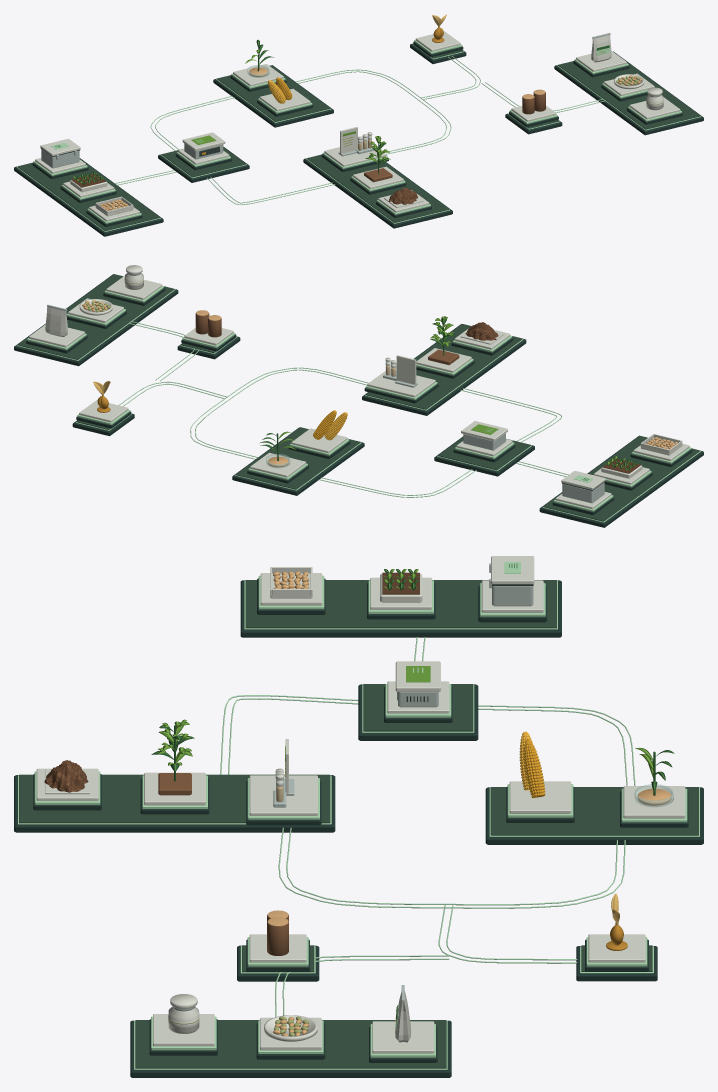
File: seed-exhibits.glb
The picture shows the model from 3 angles, top to bottom: view 1: azimuth 30°, elevation 25°; view 2: azimuth 150°, elevation 25°; view 3: azimuth 270°, elevation 25°; orthographic projection. The views are drawn at different scales.
Parts seen in each view (by area): view 1: S7_inset, S4_inset, S1_inset, S3_inset, S7_raft, S1_raft, S4_raft, S3_raft, S2_inset, plinth_A09_cap, plinth_A06_cap, S2_raft (+12 smaller); view 2: S7_inset, S1_inset, S4_inset, S3_inset, S1_raft, S7_raft, S4_raft, S2_inset, S3_raft, plinth_A09_cap, plinth_A05_cap, plinth_A06_cap (+14 smaller); view 3: S7_inset, S1_inset, S4_inset, S3_inset, S1_raft, S4_raft, S7_raft, S2_inset, plinth_A09_cap, S3_raft, plinth_A05_cap, plinth_A15_cap (+22 smaller).
Boxes of the visible parts, box(x1,y1,x2,y2) form: S7_inset: box(558, 61, 700, 129); S4_inset: box(307, 154, 449, 222); S1_inset: box(17, 159, 159, 231); S3_inset: box(217, 65, 330, 121); S7_raft: box(554, 51, 703, 135); S1_raft: box(14, 158, 163, 236); S4_raft: box(303, 158, 452, 228); S3_raft: box(213, 65, 333, 127); S2_inset: box(161, 147, 245, 177); plinth_A09_cap: box(324, 140, 386, 166); plinth_A06_cap: box(233, 64, 283, 86); S2_raft: box(158, 146, 249, 182); S7_inset: box(18, 274, 174, 359); S1_inset: box(543, 436, 699, 521); S4_inset: box(366, 324, 522, 409); S3_inset: box(236, 427, 360, 489); S1_raft: box(539, 435, 703, 527); S7_raft: box(14, 274, 178, 366); S4_raft: box(362, 324, 526, 415); S2_inset: box(438, 437, 530, 470); S3_raft: box(232, 427, 364, 495); plinth_A09_cap: box(367, 369, 435, 397); plinth_A05_cap: box(291, 428, 347, 453); plinth_A06_cap: box(250, 452, 305, 477); S7_inset: box(135, 1020, 446, 1068); S1_inset: box(245, 580, 556, 628); S4_inset: box(19, 774, 330, 823); S3_inset: box(490, 787, 698, 835); S1_raft: box(240, 580, 561, 637); S4_raft: box(14, 775, 335, 832); S7_raft: box(130, 1020, 451, 1077); S2_inset: box(363, 684, 473, 731); plinth_A09_cap: box(249, 775, 317, 815); S3_raft: box(485, 787, 703, 844); plinth_A05_cap: box(509, 781, 571, 813); plinth_A15_cap: box(372, 1021, 434, 1053).
Bounding box in the file's own units: 24.27 × 2.02 × 14.39.
